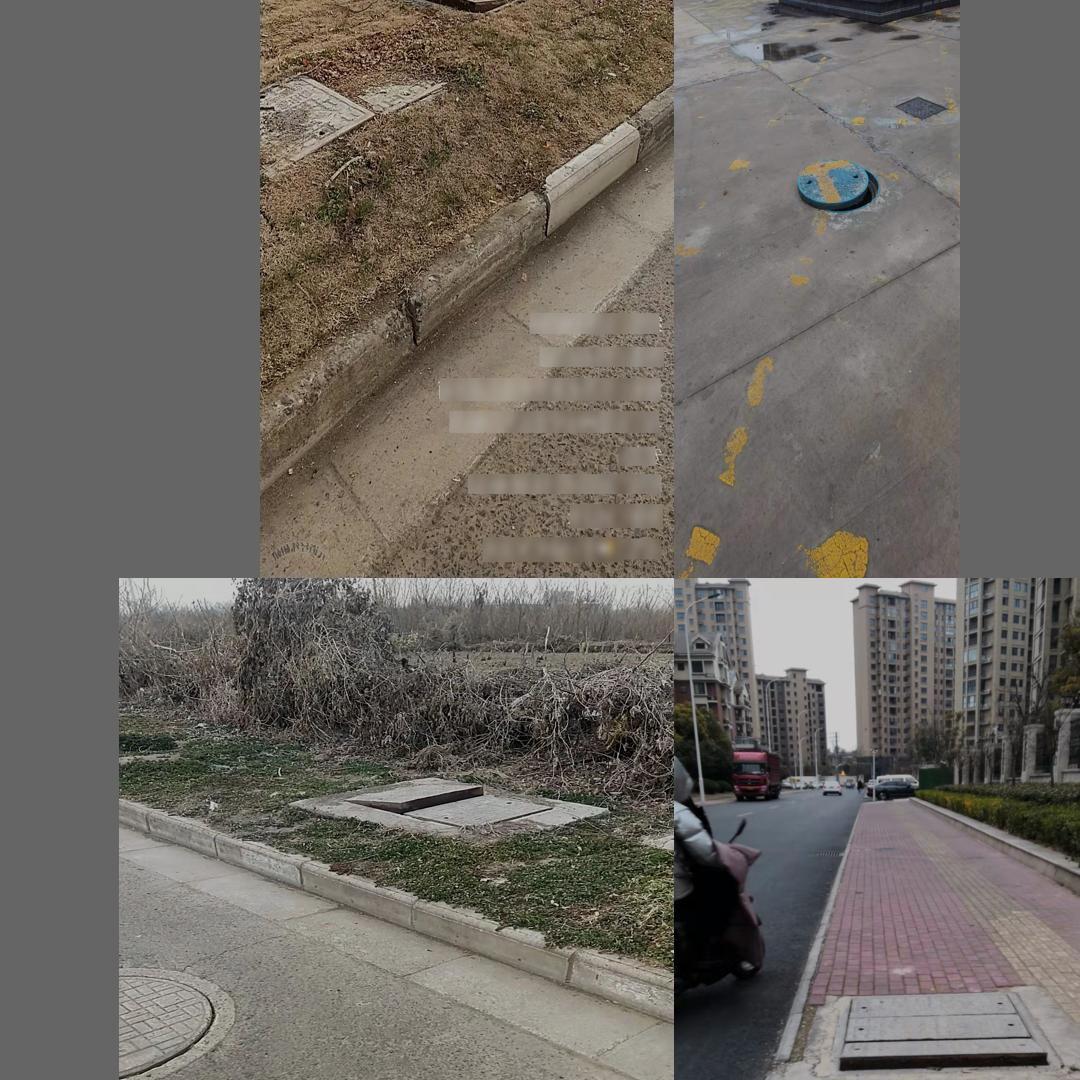good: (260, 60, 449, 182), (119, 969, 234, 1080)
uncovered: (830, 993, 1065, 1078), (350, 775, 555, 831), (798, 161, 880, 212), (402, 0, 565, 14)
